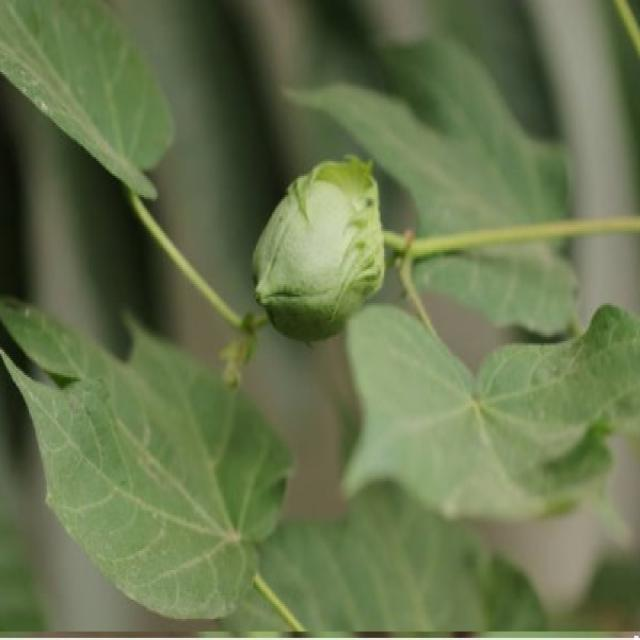Early Boll: (237, 155, 402, 337)
